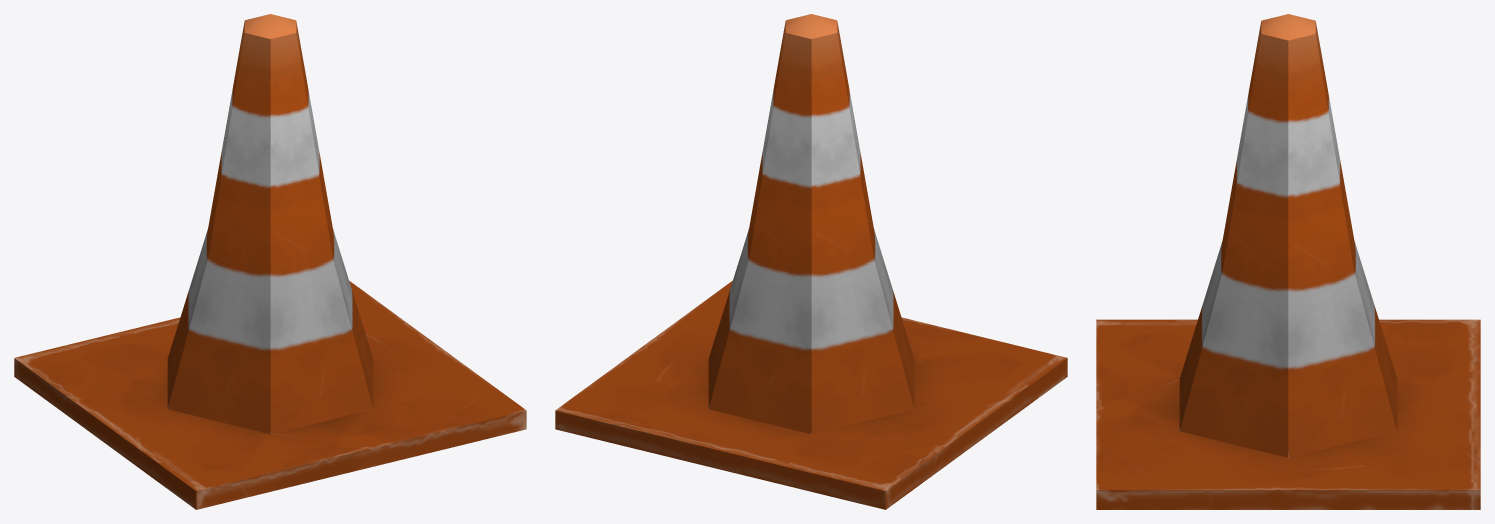
Rendered from road_cone.fbx.
3 renders of one model, left to right at view 1: azimuth 30°, elevation 25°; view 2: azimuth 150°, elevation 25°; view 3: azimuth 270°, elevation 25°, orthographic. The views are drawn at different scales.
Visible parts, largest first — view 1: road_cone; view 2: road_cone; view 3: road_cone.
Boxes of the visible parts, x1=… form: road_cone: x1=14, y1=14, x2=526, y2=509; road_cone: x1=555, y1=14, x2=1067, y2=509; road_cone: x1=1096, y1=14, x2=1480, y2=509.
Size of the model in its own units: 0.3041 by 0.3417 by 0.29.
